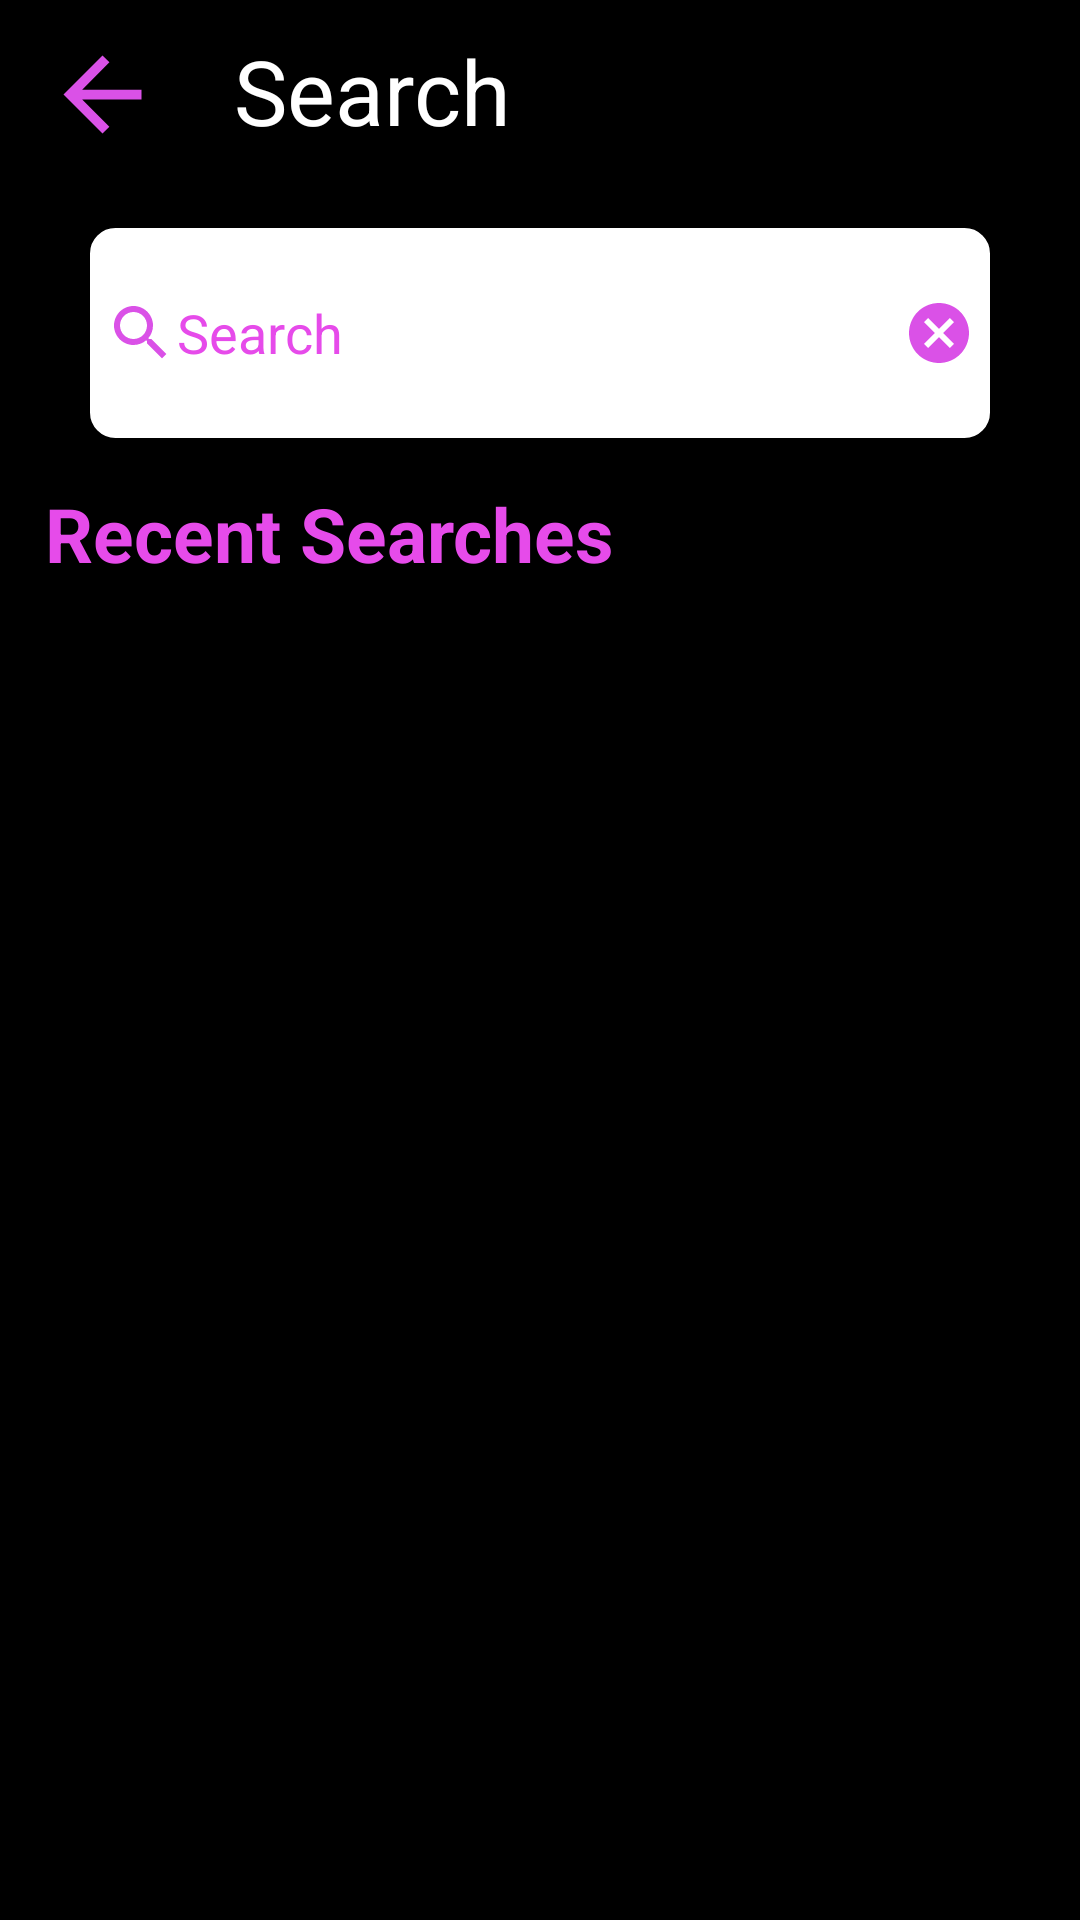

Icon click points for this 1080 x 1920 phone screenshot, format [x,y]:
back: [102,94]
